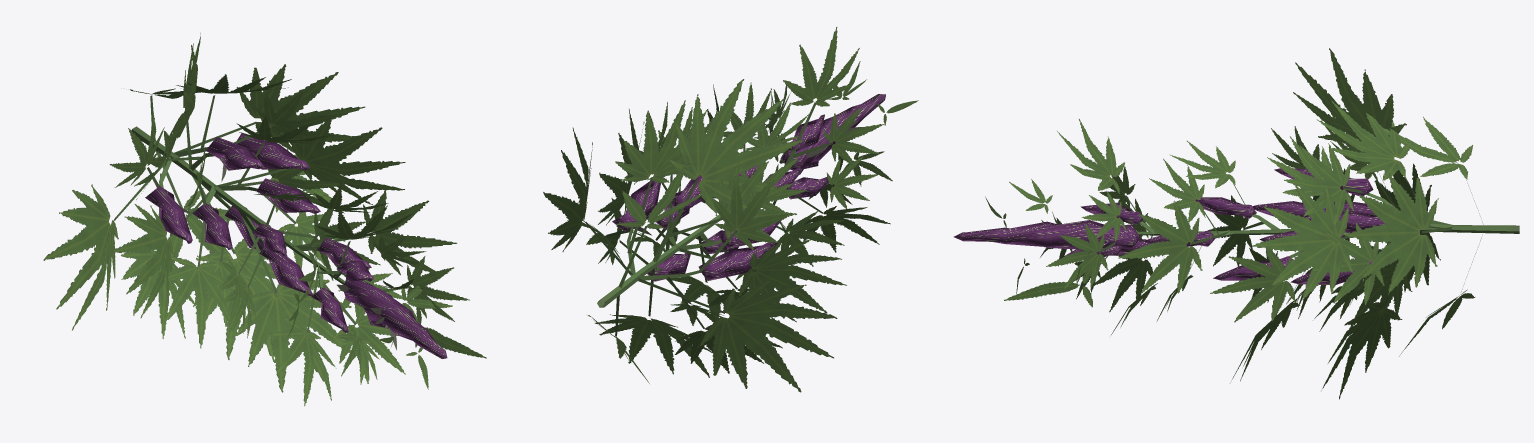
File: p_purple_landrace_flowering_c0_cards.obj
3 views of the same model, side by side, from view 1: azimuth 30°, elevation 25°; view 2: azimuth 150°, elevation 25°; view 3: azimuth 270°, elevation 25° (orthographic). The views are drawn at different scales.
Size of the model in its own units: 1.51 by 1.47 by 2.12.
1 material, 1 textured.
